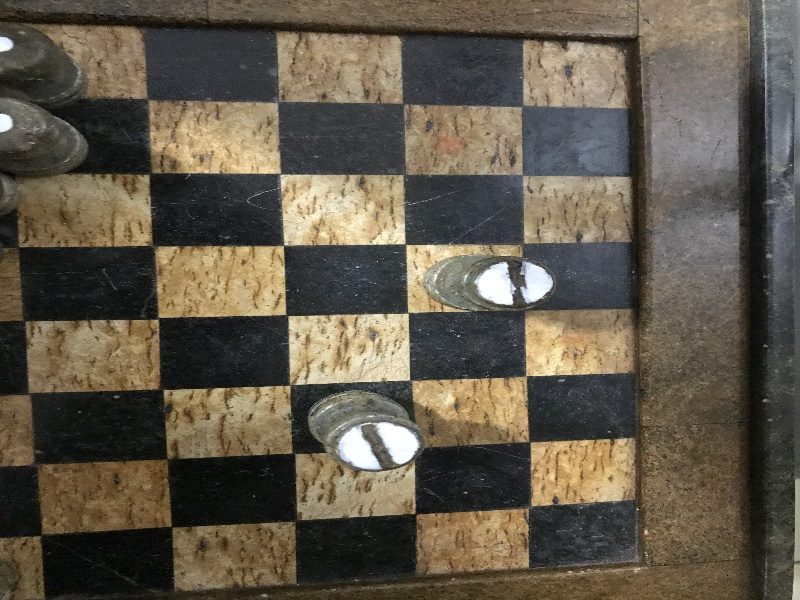WhiteRook: (309, 389, 423, 472), (424, 254, 554, 312)
